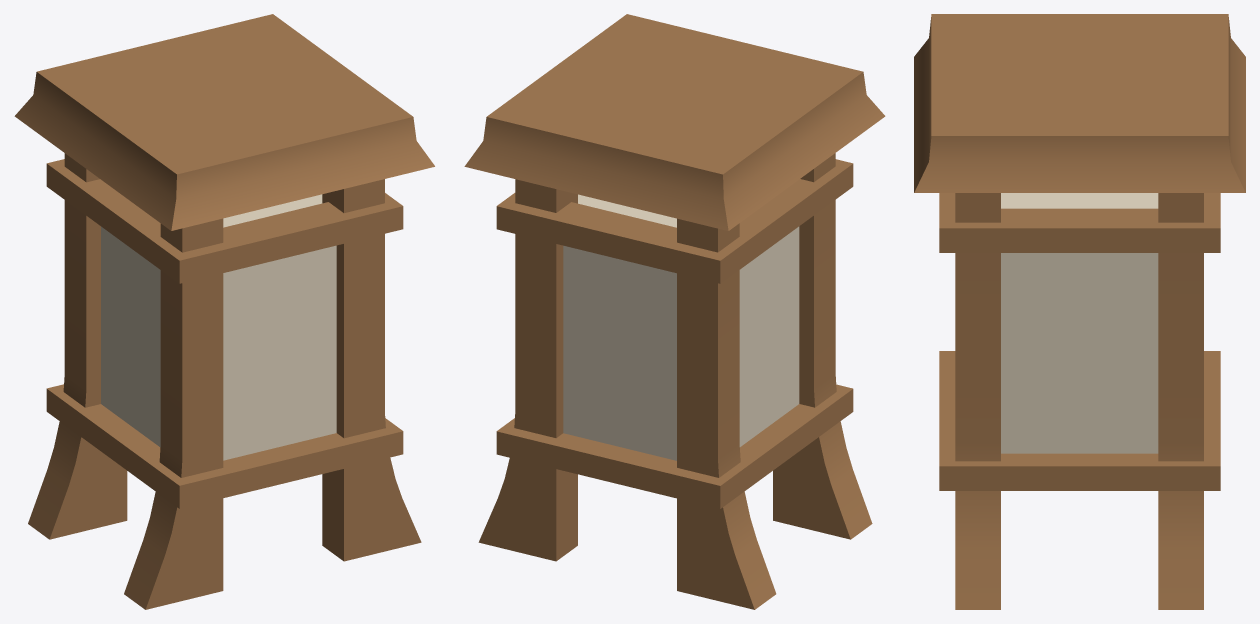
Rendered from light.glb.
3 renders of one model, left to right at view 1: azimuth 30°, elevation 25°; view 2: azimuth 150°, elevation 25°; view 3: azimuth 270°, elevation 25°, orthographic. The views are drawn at different scales.
Visible parts, largest first — view 1: Decoration_Light; view 2: Decoration_Light; view 3: Decoration_Light.
Boxes of the visible parts, box(x1,y1,x2,y2) form: Decoration_Light: box(14, 14, 434, 609); Decoration_Light: box(464, 14, 885, 609); Decoration_Light: box(914, 14, 1245, 609).
Bounding box in the file's own units: 0.8944 × 1.36 × 0.8801.
Materials: 2 (1 with a texture image).
